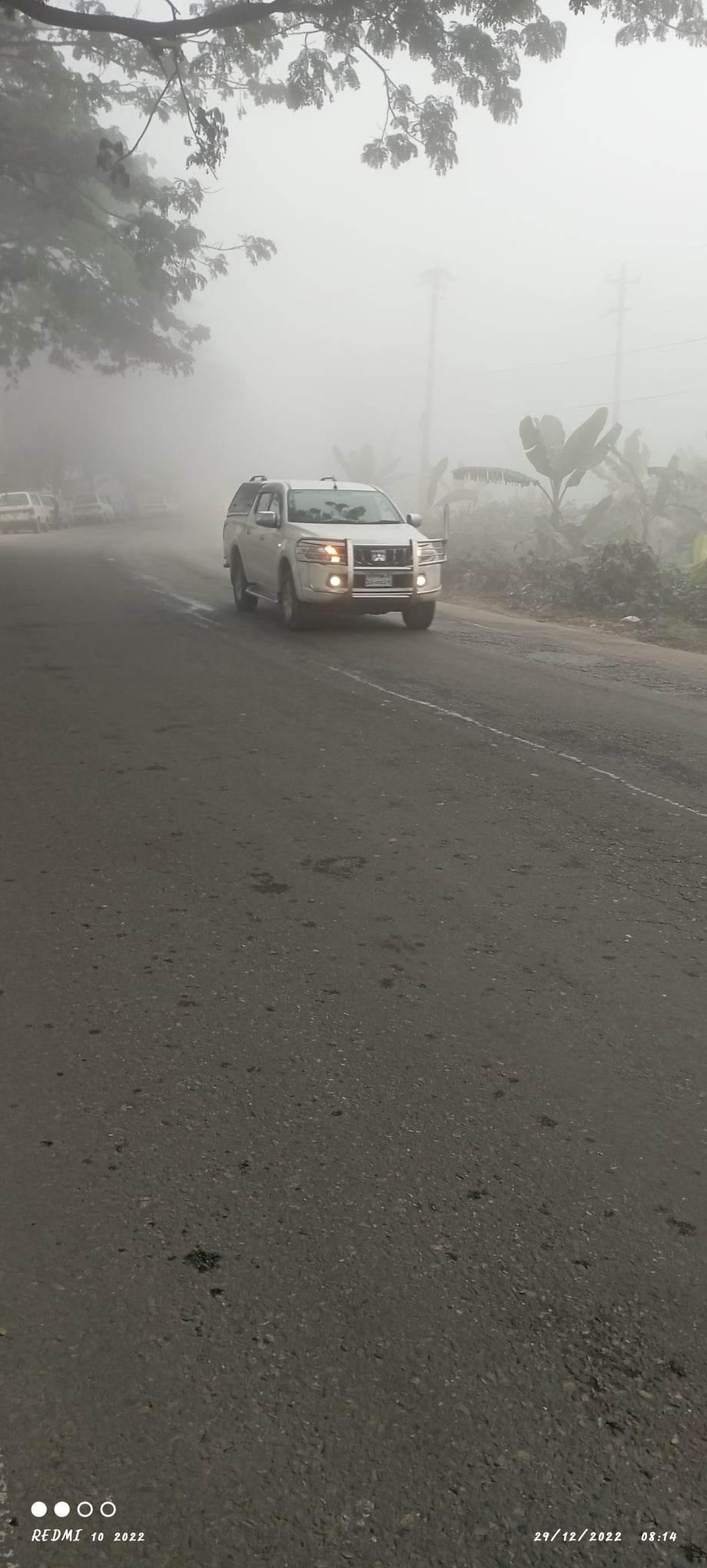Car: (183, 440, 474, 661), (3, 483, 73, 539)
